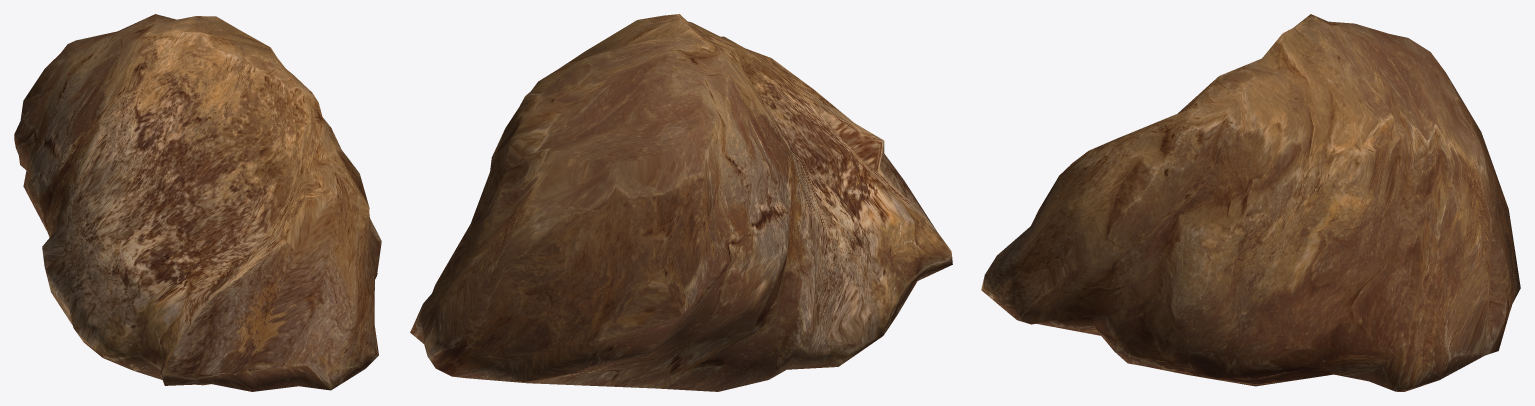
The model's file is Rock_03.FBX.
The picture shows the model from 3 angles, left to right: view 1: azimuth 30°, elevation 25°; view 2: azimuth 150°, elevation 25°; view 3: azimuth 270°, elevation 25°; orthographic projection. The views are drawn at different scales.
Parts seen in each view (by area): view 1: Rock_03; view 2: Rock_03; view 3: Rock_03.
Part boxes in pixels (bbox=[...]): Rock_03: bbox=[14, 14, 381, 391]; Rock_03: bbox=[410, 14, 952, 391]; Rock_03: bbox=[981, 14, 1520, 391].
Bounding box in the file's own units: 6.36 × 5.9 × 9.29.
Materials: 1 (1 with a texture image).
